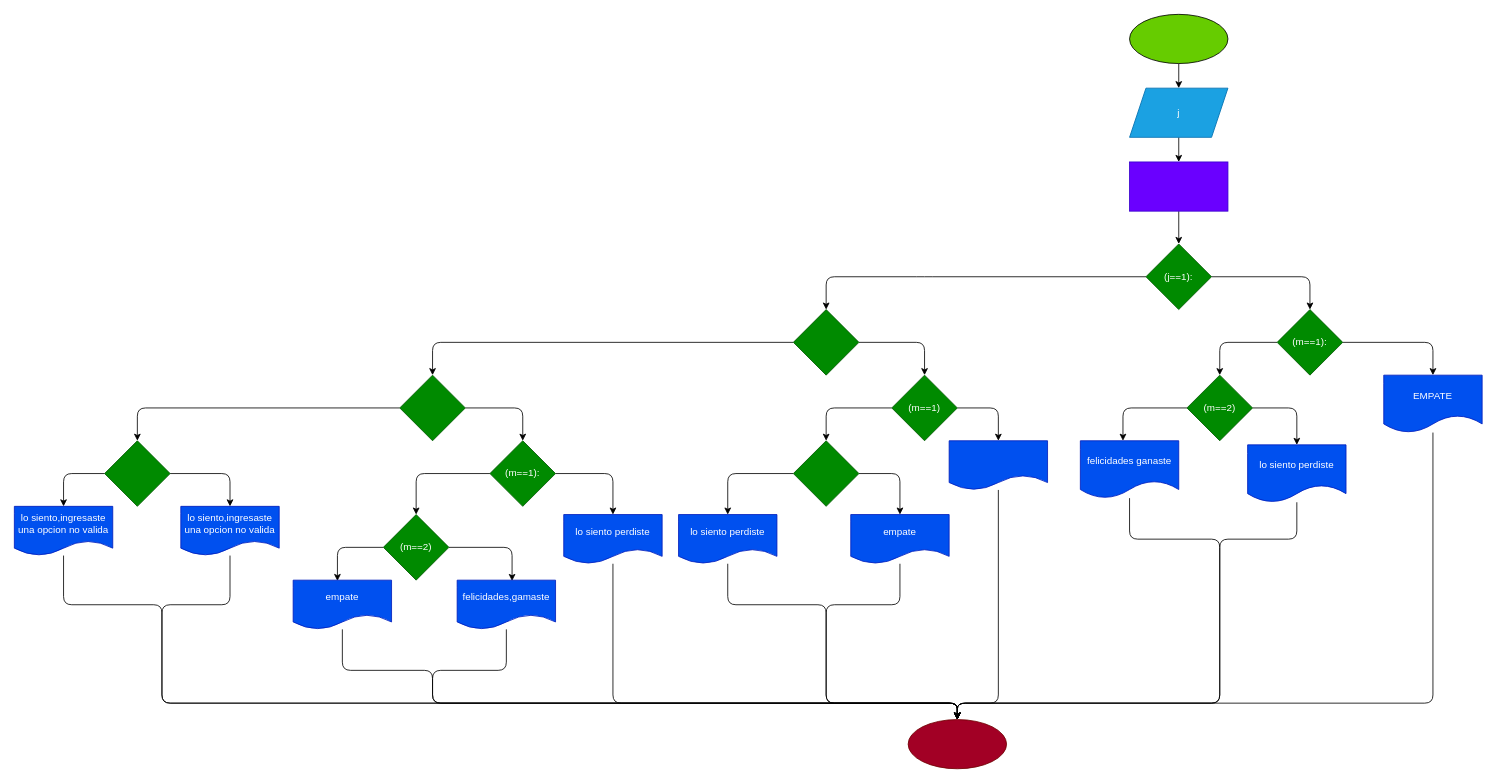
Image size: 1497x783. Some labels were removed from this diagram. The centre of each missing label's shape, as x and y in pixels:
(j==2):: (x=826, y=342)
(j==3):: (x=432, y=407)
(j>4):: (x=137, y=473)
(m==2):: (x=826, y=473)
felicidades,ganaste: (x=998, y=465)
FIN: (x=957, y=744)
INICIO: (x=1178, y=39)
m = random.radint(1,3): (x=1178, y=186)
